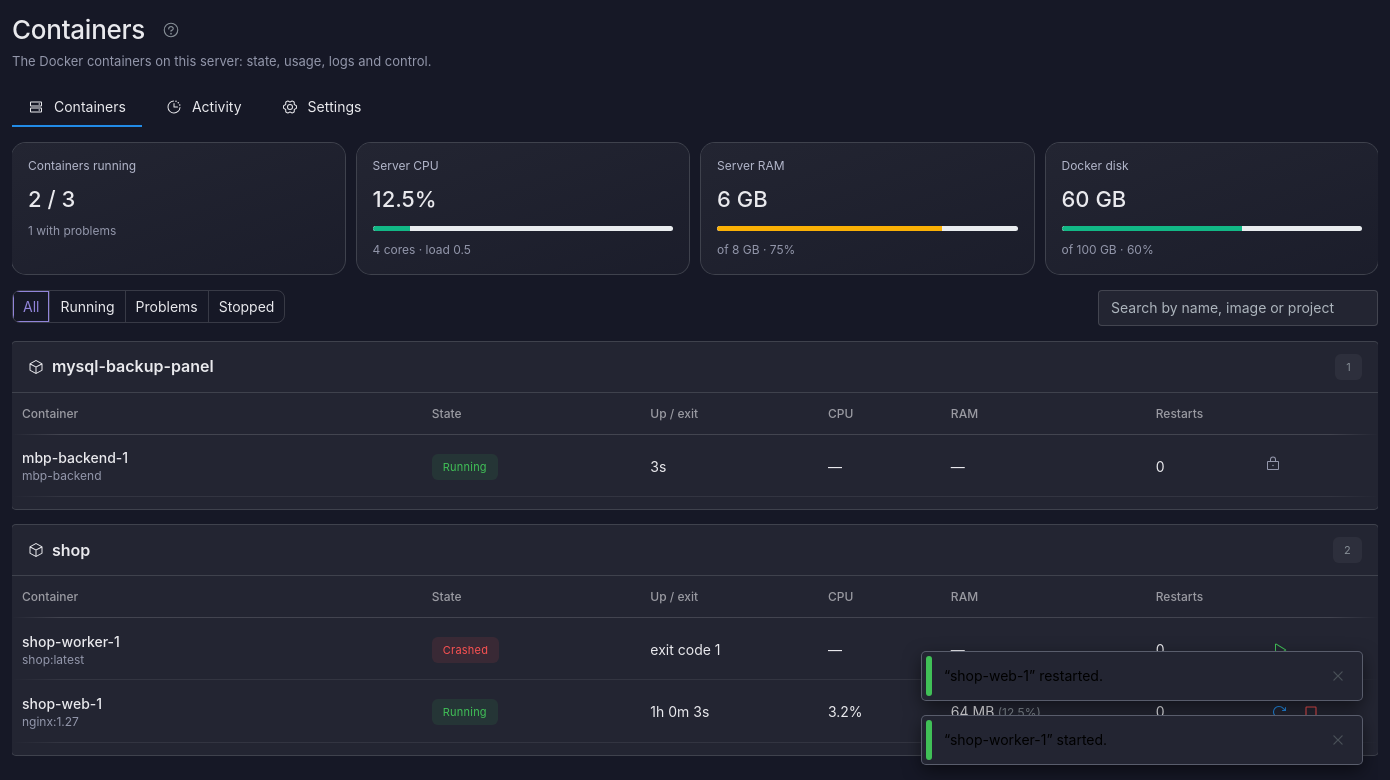
Test: ContainersPage › filters problems and searches
Expected: the row with test id "container-shop-web-1" is shown, [12, 681, 1378, 743]
Click the text "Problems": click(167, 306) [136, 298, 198, 314]
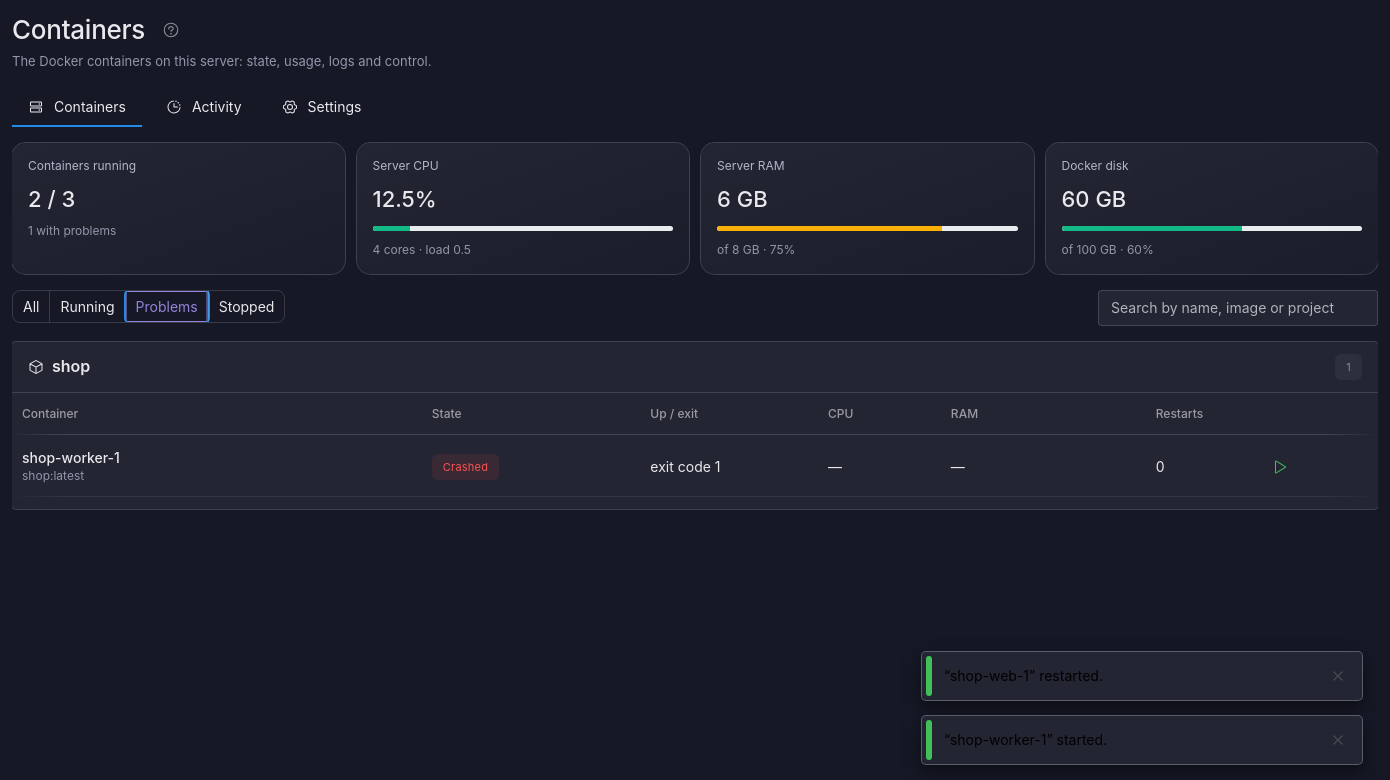
Expected: the row with test id "container-shop-worker-1" is shown, [12, 436, 1378, 497]
Result: the row with test id "container-shop-web-1" is gone
Click the text "All": click(31, 306) [23, 298, 40, 314]
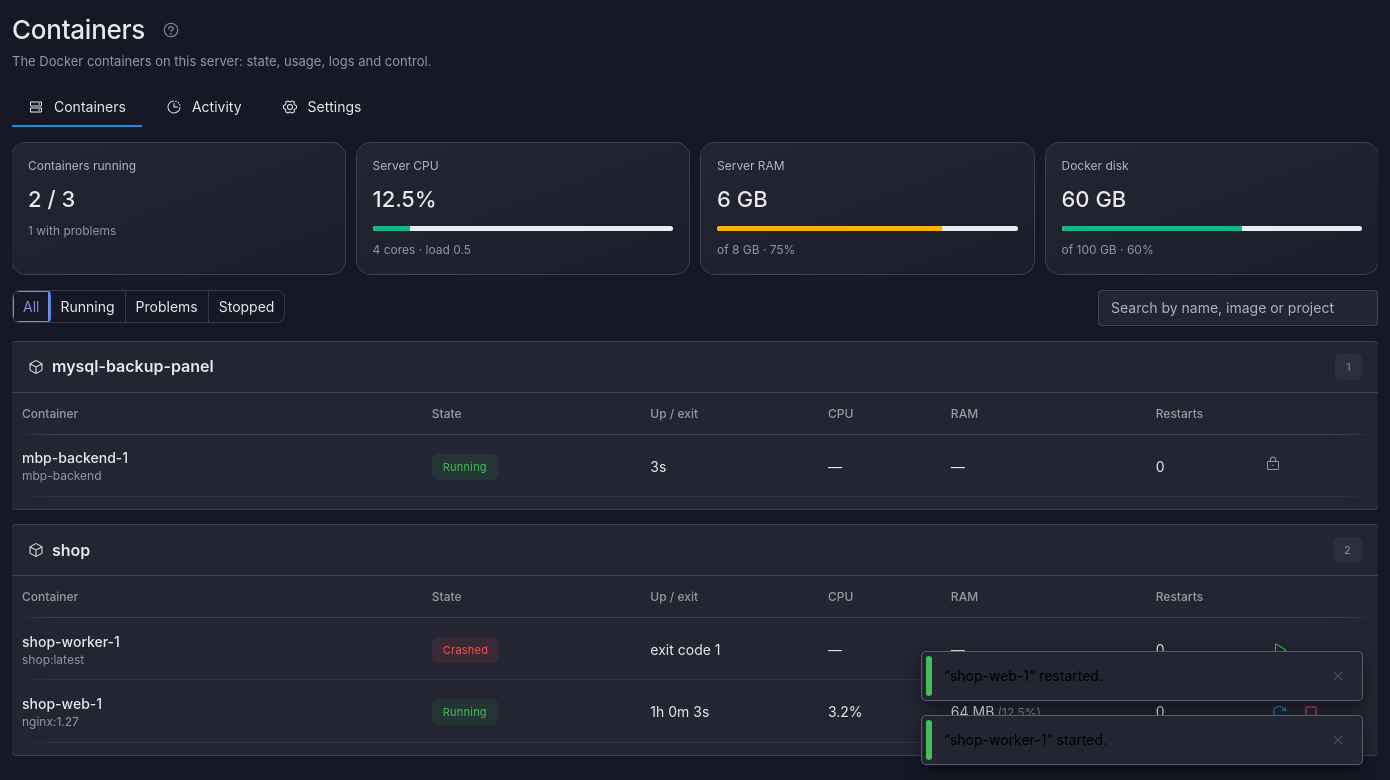
In the field labelled "Search by name, image or project": (1238, 308) [1098, 290, 1378, 326], type "mbp"
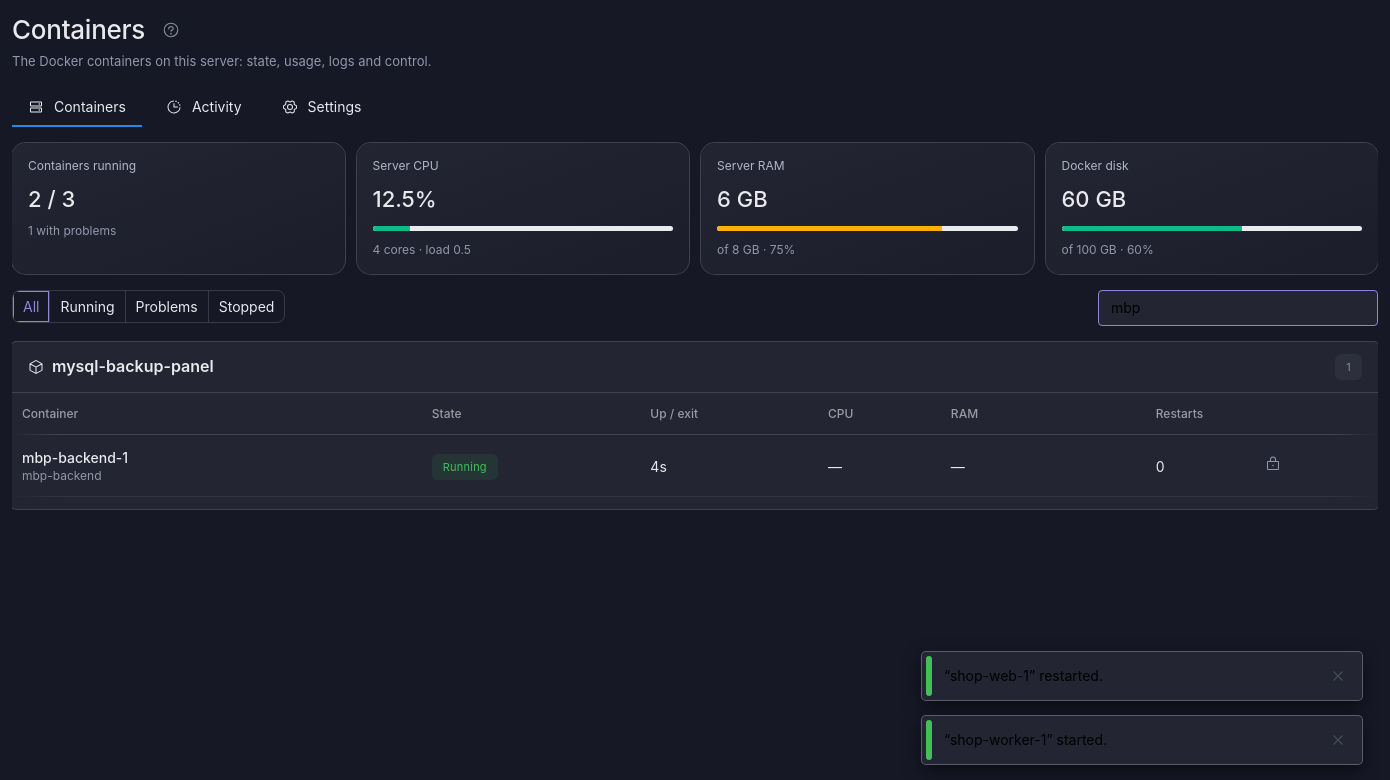
Result: the row with test id "container-mbp-backend-1" is shown at [12, 436, 1378, 497]
Result: the row with test id "container-shop-worker-1" is gone
